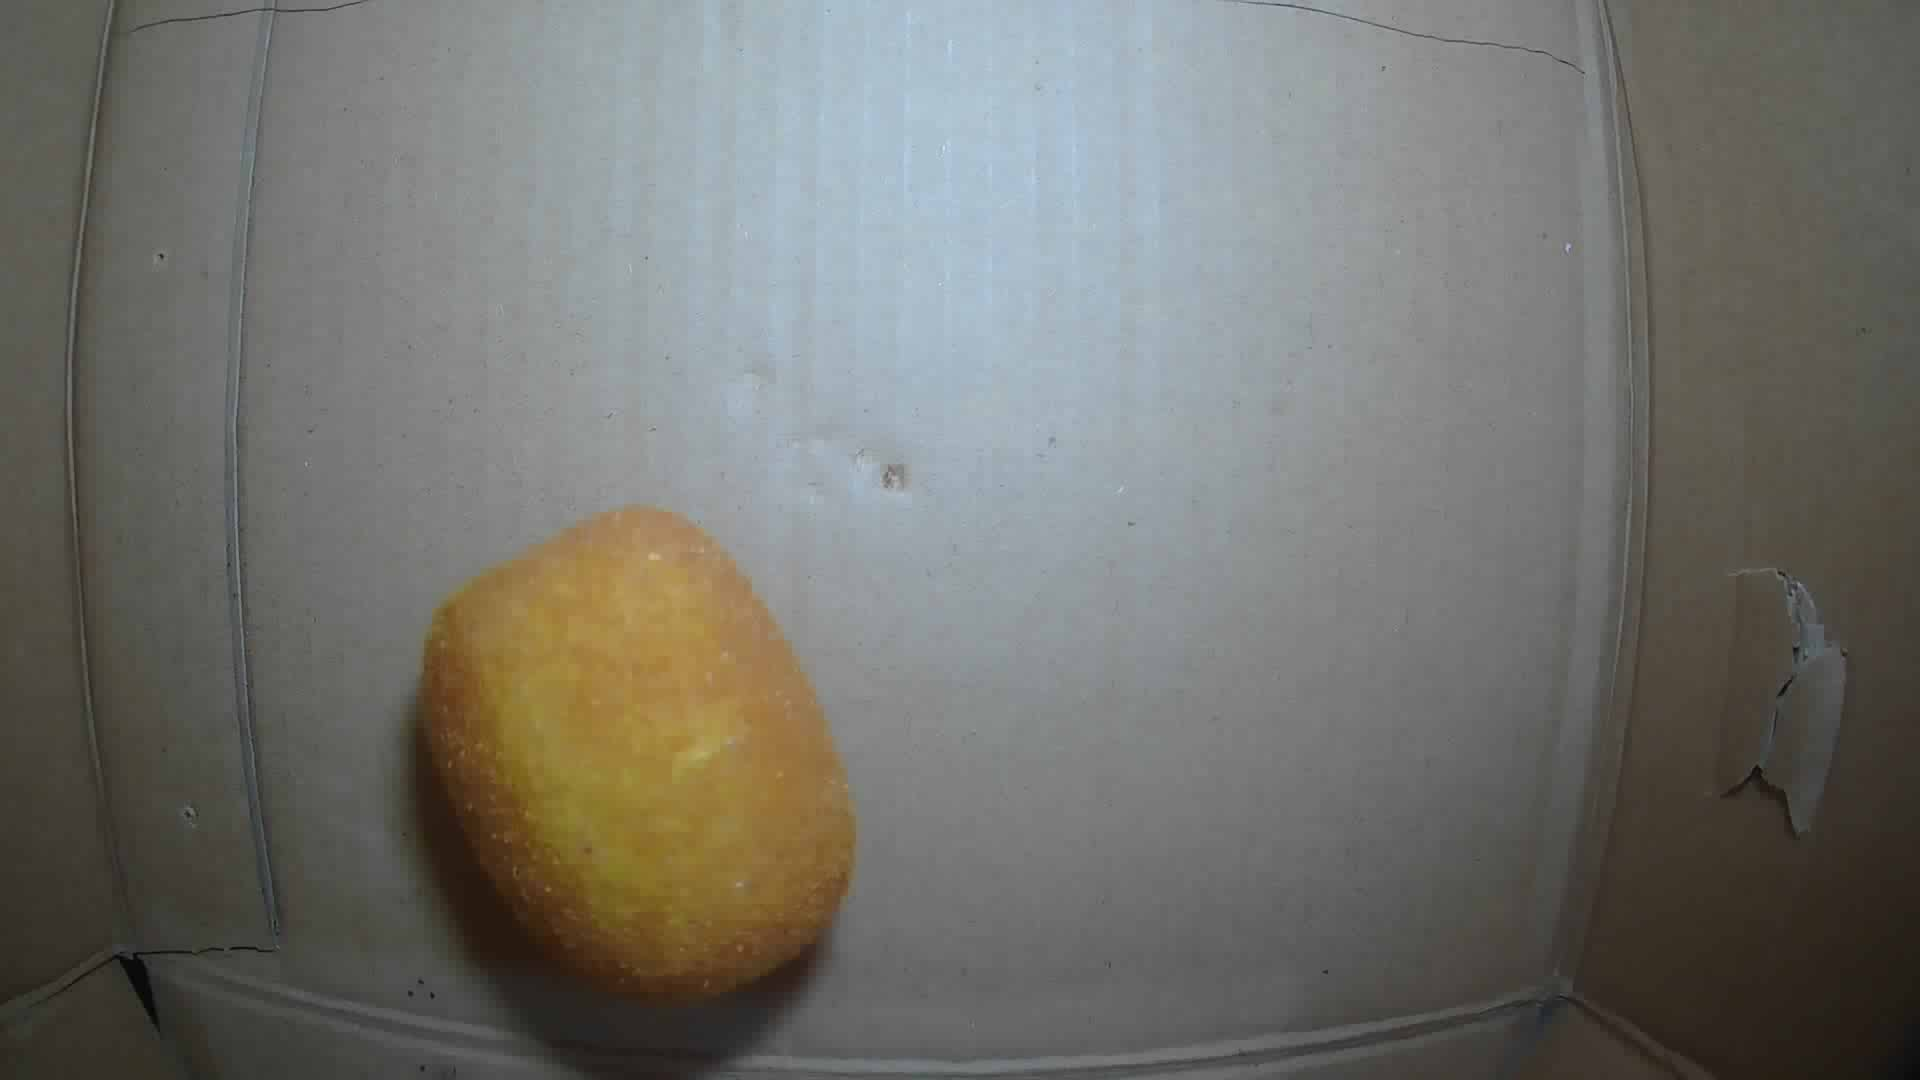kiwi: (417, 504, 858, 1001)
